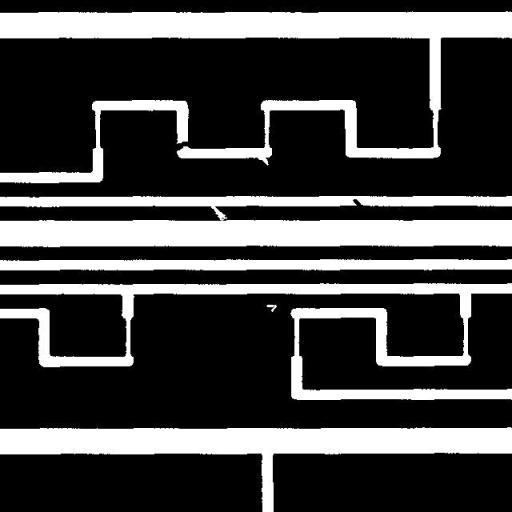mousebite: (250, 149, 276, 173)
open: (202, 196, 234, 228)
pin-hole: (258, 297, 284, 319)
short: (164, 134, 199, 158)
spur: (345, 191, 371, 215)
